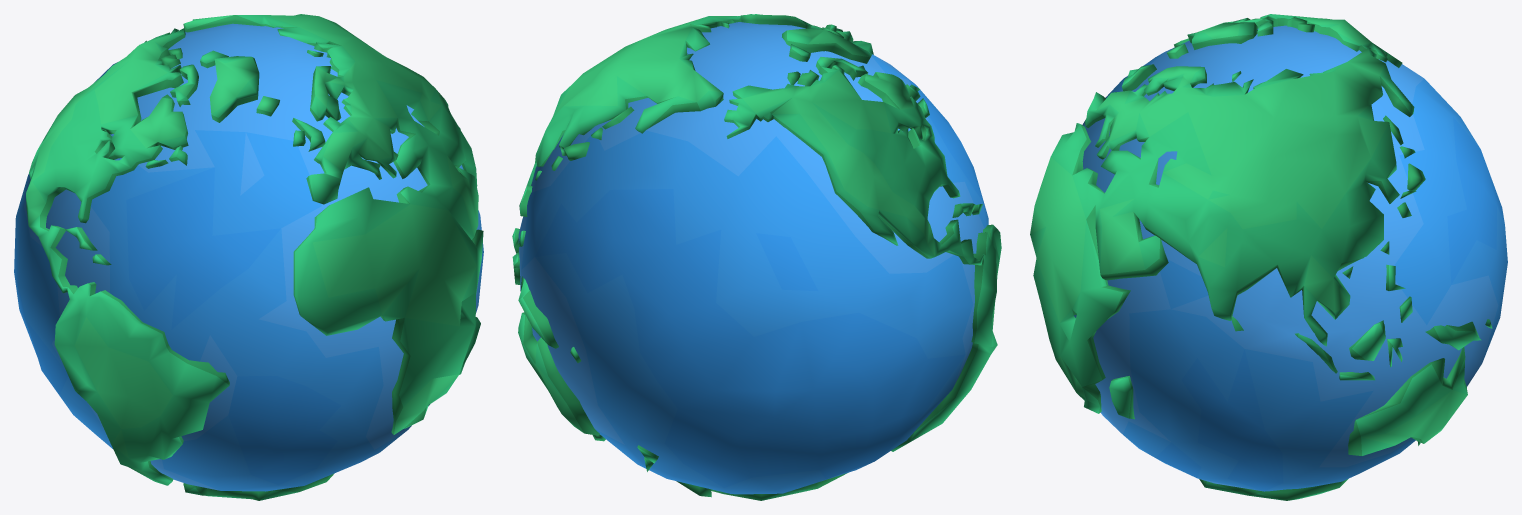
The model's file is checkcheck (1).glb.
3 renders of one model, left to right at view 1: azimuth 30°, elevation 25°; view 2: azimuth 150°, elevation 25°; view 3: azimuth 270°, elevation 25°, orthographic.
Visible parts, largest first — view 1: flatEarth_lands, flatEarth_sea; view 2: flatEarth_sea, flatEarth_lands; view 3: flatEarth_lands, flatEarth_sea.
Part boxes in pixels (left/top/right/bottom): flatEarth_lands: left=26, top=14, right=483, bottom=500; flatEarth_sea: left=14, top=23, right=483, bottom=491; flatEarth_sea: left=518, top=22, right=988, bottom=494; flatEarth_lands: left=512, top=14, right=1001, bottom=500; flatEarth_lands: left=1030, top=14, right=1492, bottom=500; flatEarth_sea: left=1074, top=25, right=1507, bottom=491.
Bounding box in the file's own units: 112 × 112 × 111.
Materials: 1 (1 with a texture image).
